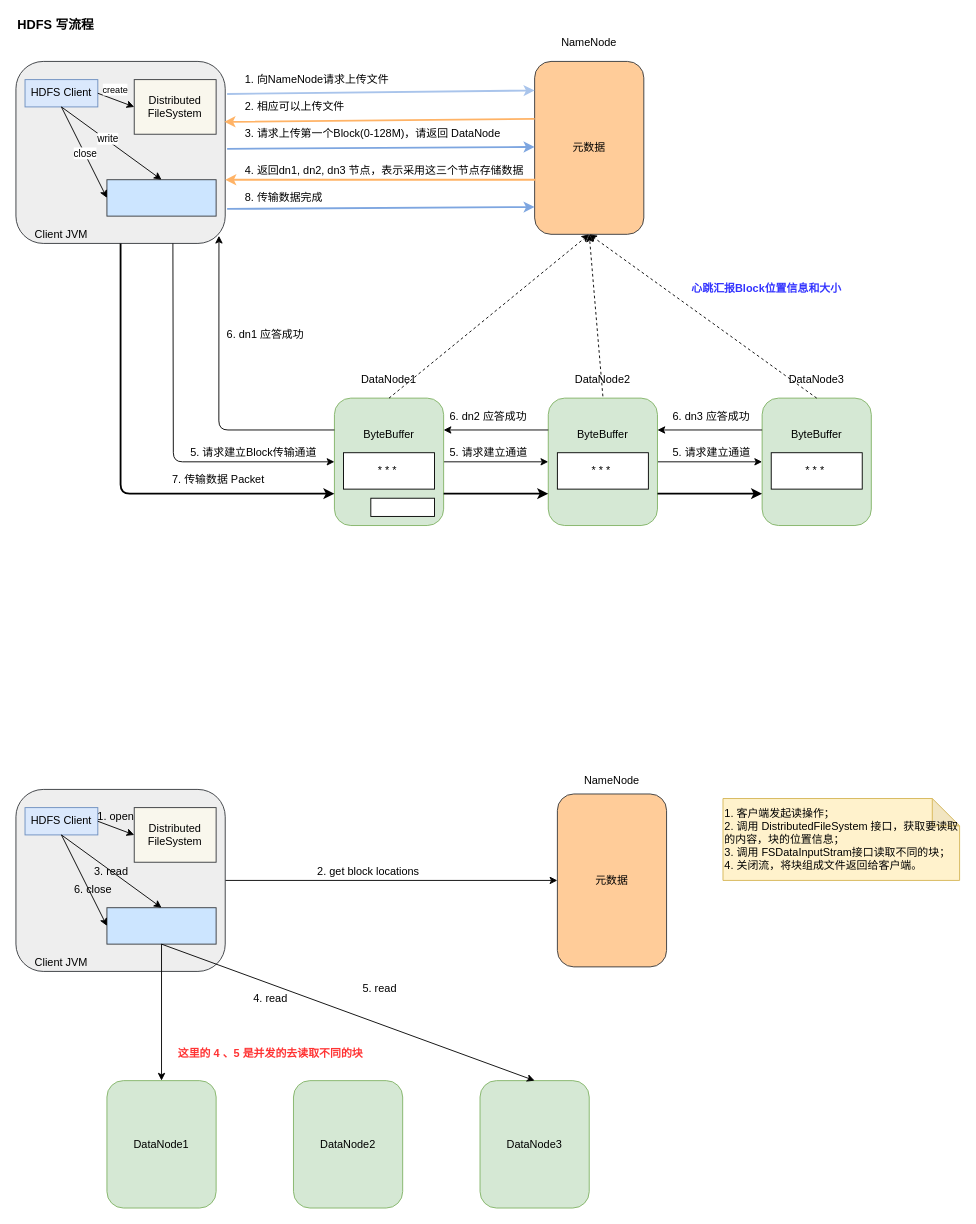
This 976x1224 diagram has some shape labels left out. The shapes that lost their labels are listed below. From the top down, each one's box as (x1, y1, x2, y2) in pixels, then its label:
(106, 179, 216, 216): FSDataOutputStream
(370, 497, 435, 516): 7 blk_1
(106, 907, 216, 944): FSDataInputStream
